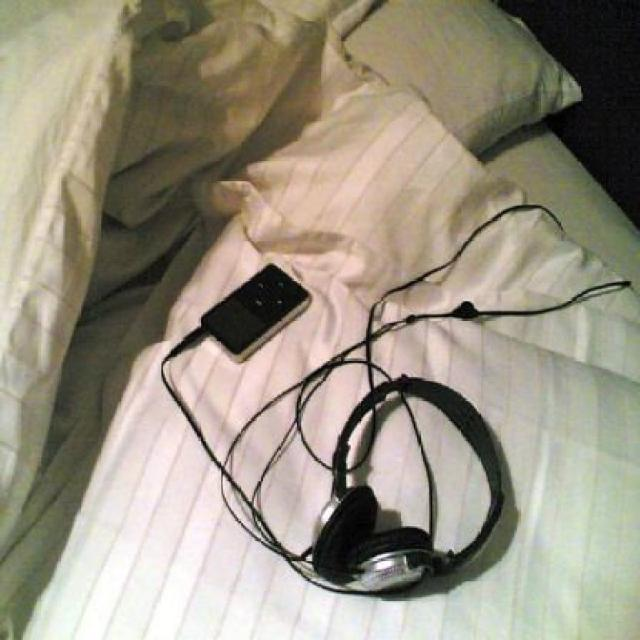earphone: (312, 385, 573, 608)
